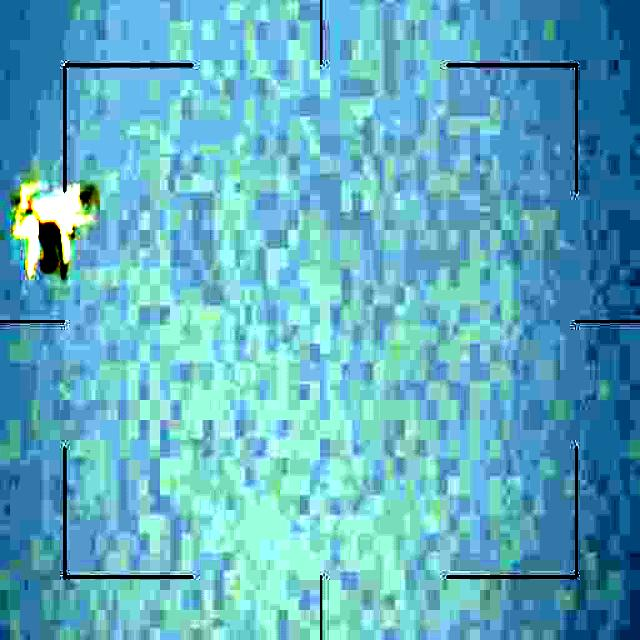bird: (1, 184, 96, 282)
